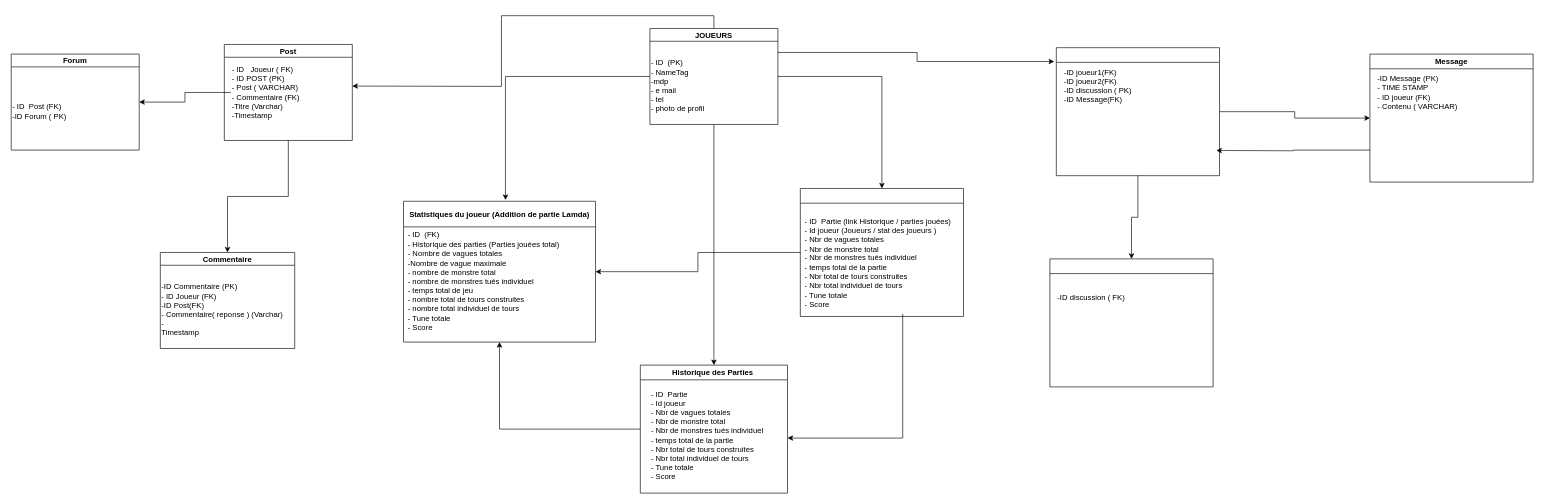
Some shapes in this 1544 by 504 pixel diagram are drawn without their labels. Each missing label, with the box of its shape:
Discussion Historique: (1049, 258, 1213, 387)
Discussion MP(: (1056, 47, 1220, 176)
Partie Lambda: (800, 188, 964, 316)
